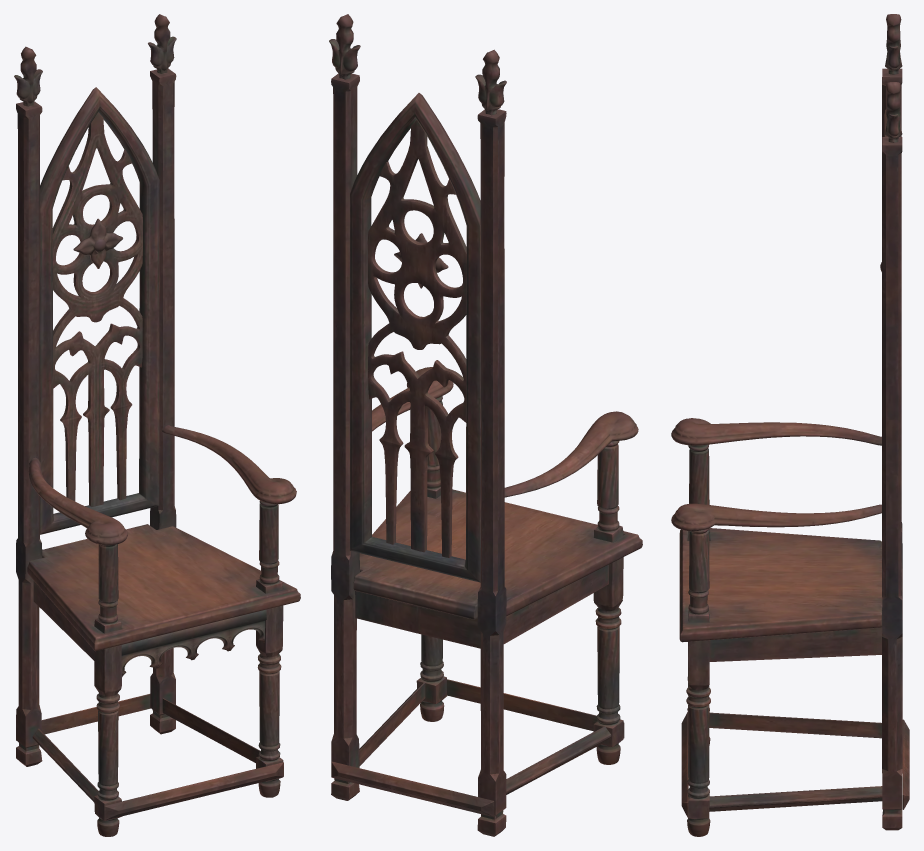
The model's file is Classic Wooden Chair1.gltf.
3 views of the same model, side by side, from view 1: azimuth 30°, elevation 25°; view 2: azimuth 150°, elevation 25°; view 3: azimuth 270°, elevation 25° (orthographic). The views are drawn at different scales.
Parts seen in each view (by area): view 1: WoodenChair_01; view 2: WoodenChair_01; view 3: WoodenChair_01.
Boxes of the visible parts, x1=… form: WoodenChair_01: x1=14, y1=14, x2=300, y2=836; WoodenChair_01: x1=329, y1=14, x2=642, y2=836; WoodenChair_01: x1=671, y1=14, x2=909, y2=836.
Bounding box in the file's own units: 0.6882 × 2.27 × 0.6585.
Materials: 1 (1 with a texture image).
